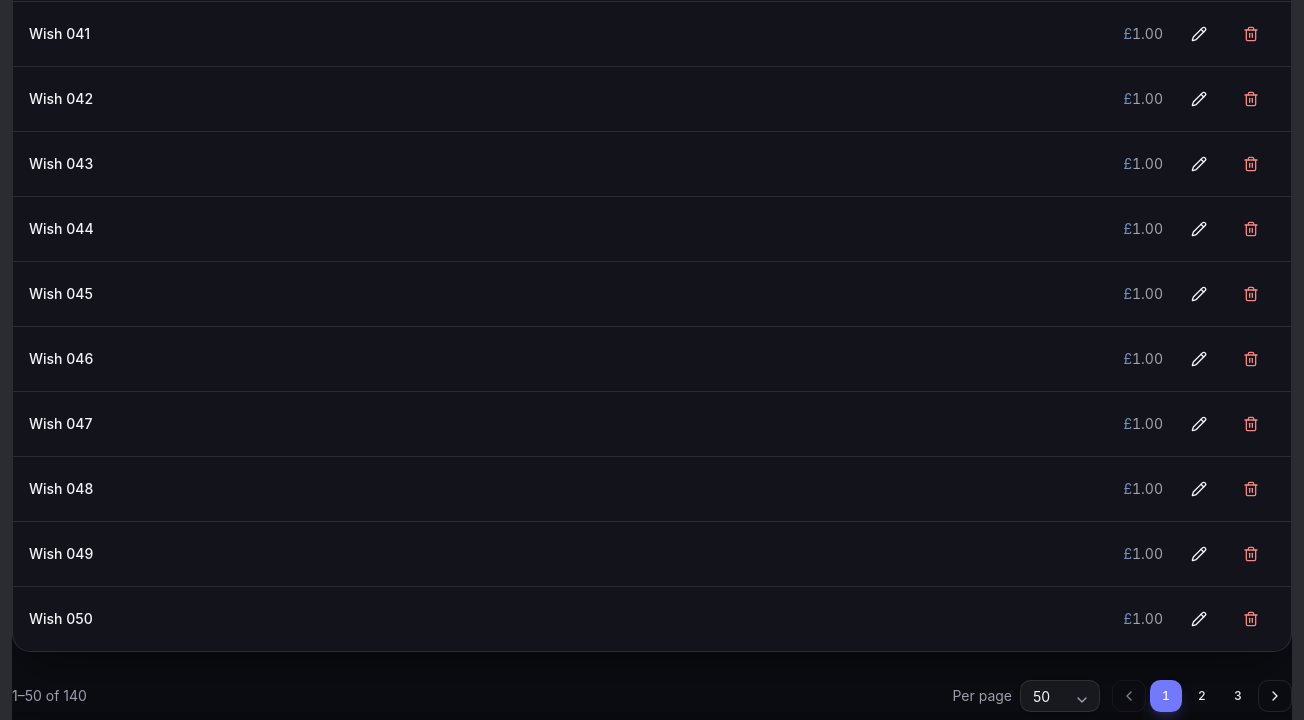
Test: WishlistTab — a wishlist longer than one read (issue #149) › pages the loaded list when the preference is on
The image size is (1304, 720).
(page scrolled)
Expected: the message with test id "wishlist-pagination-summary" reads "1–50 of 140", [12,687,87,704]
Expected: the text "Wish 051" is not shown
Step 1. Click the button named "Next page" → (1275, 696), box [1258,680,1292,712]
(page scrolled)
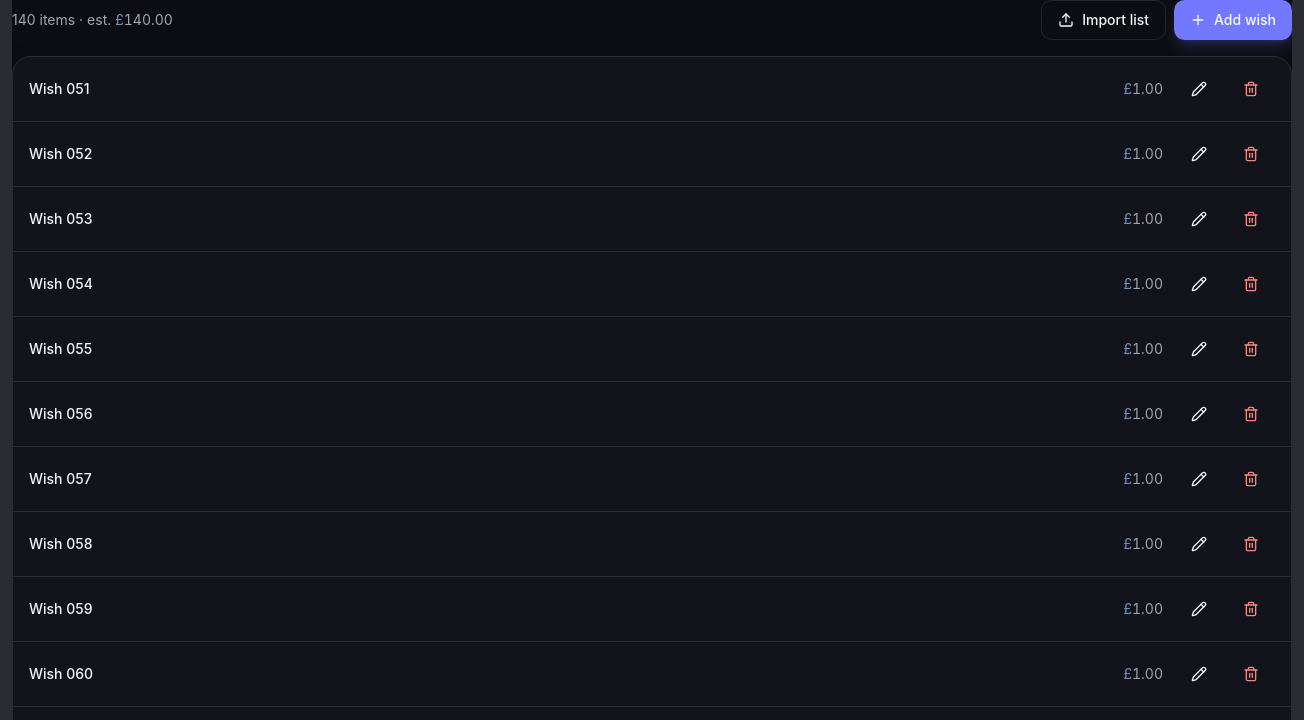
Expected: the text "Wish 051" is shown, [29,79,90,99]
